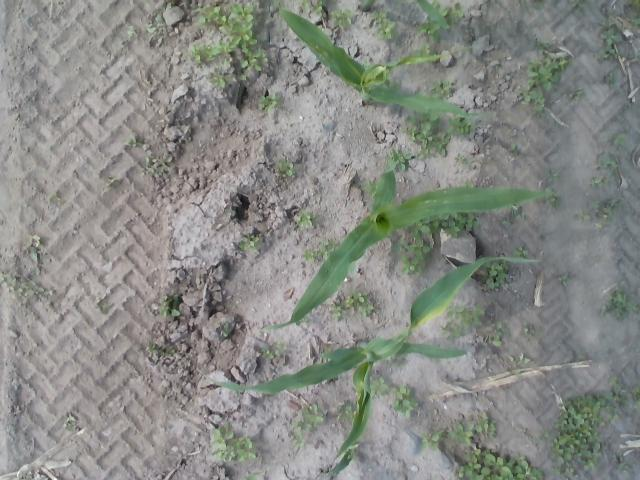Maize: (197, 256, 540, 464), (262, 148, 554, 332), (274, 2, 490, 118), (322, 448, 358, 480), (414, 0, 449, 30), (358, 0, 378, 11)
Weeds: (550, 378, 626, 480), (186, 2, 270, 92), (514, 56, 568, 114), (456, 448, 544, 480), (389, 227, 434, 276), (405, 113, 452, 159), (286, 403, 323, 457), (212, 424, 260, 464), (448, 412, 497, 447), (443, 306, 486, 342), (0, 272, 48, 300), (422, 214, 478, 238), (598, 290, 640, 319), (598, 20, 622, 61), (391, 384, 418, 418), (344, 288, 374, 318), (258, 88, 284, 116), (140, 154, 173, 176), (484, 261, 509, 290), (597, 196, 621, 226), (372, 8, 396, 38), (388, 146, 414, 172), (302, 238, 329, 262), (154, 292, 180, 316), (418, 425, 444, 449), (486, 322, 508, 349), (593, 147, 617, 171), (446, 116, 477, 134), (260, 340, 288, 359), (146, 342, 174, 360), (94, 292, 115, 316), (26, 234, 42, 264), (428, 78, 451, 98), (332, 8, 352, 30), (418, 23, 438, 44), (335, 402, 356, 421), (543, 189, 562, 210), (276, 157, 295, 178), (370, 376, 387, 399), (300, 0, 324, 16), (359, 178, 376, 198), (329, 302, 345, 322), (238, 235, 260, 248), (297, 212, 314, 228), (64, 412, 78, 431), (630, 380, 640, 406), (576, 209, 594, 222), (522, 322, 534, 341), (512, 204, 526, 220), (588, 176, 604, 190), (218, 321, 231, 338), (510, 355, 530, 366), (616, 456, 630, 471), (125, 135, 142, 147), (626, 0, 640, 14), (536, 40, 550, 54), (106, 176, 122, 188), (606, 71, 618, 87), (568, 87, 584, 99), (449, 12, 462, 26), (546, 169, 558, 184), (535, 431, 548, 444), (612, 134, 626, 146), (156, 11, 167, 26), (454, 153, 469, 164), (246, 471, 264, 480), (514, 248, 530, 258), (557, 274, 570, 286), (145, 22, 157, 34), (508, 143, 520, 155), (128, 24, 138, 38), (224, 207, 237, 217), (454, 3, 464, 16), (569, 0, 585, 8), (48, 191, 60, 201), (518, 427, 530, 437), (591, 199, 600, 212), (460, 181, 476, 187), (534, 2, 546, 10), (165, 1, 178, 8), (634, 50, 640, 63), (296, 319, 308, 325), (631, 18, 640, 26), (440, 8, 448, 16), (502, 221, 511, 228), (578, 353, 586, 360), (432, 0, 439, 6)
